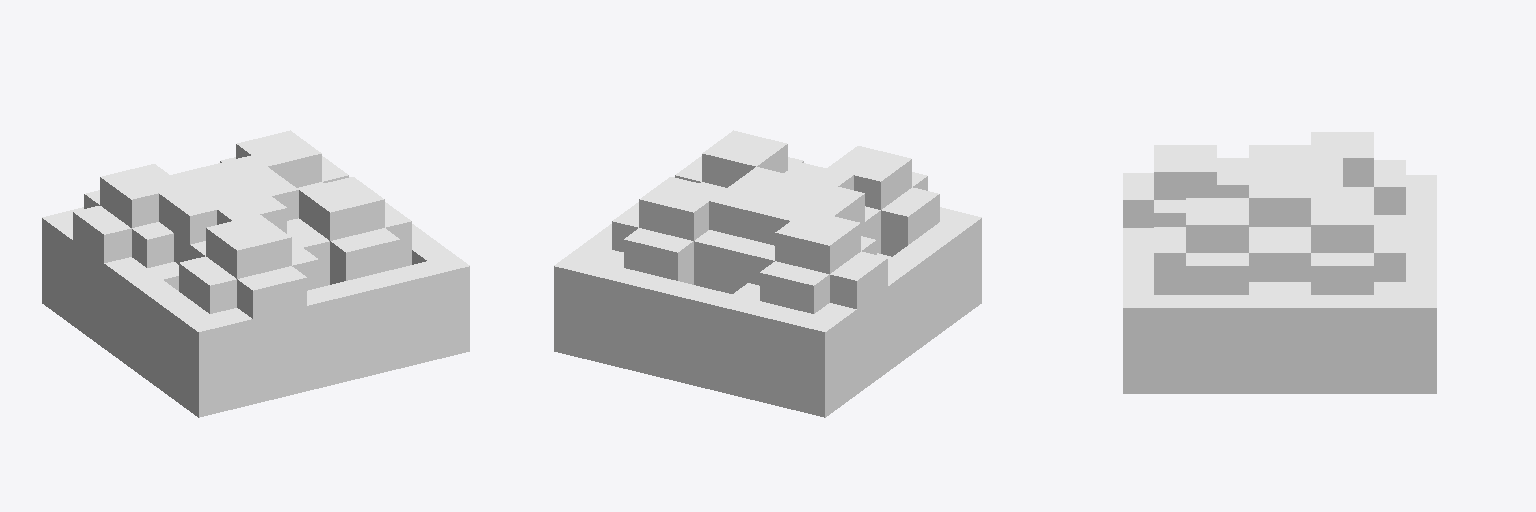
Rendered from CoalBox.obj.
The picture shows the model from 3 angles: view 1: azimuth 30°, elevation 25°; view 2: azimuth 150°, elevation 25°; view 3: azimuth 270°, elevation 25°; orthographic projection.
Parts seen in each view (by area): view 1: object 1; view 2: object 1; view 3: object 1.
Part boxes in pixels (left/top/right/bottom): object 1: left=42, top=130, right=469, bottom=417; object 1: left=554, top=130, right=981, bottom=417; object 1: left=1123, top=132, right=1436, bottom=393.
Bounding box in the file's own units: 1 × 0.5 × 1.